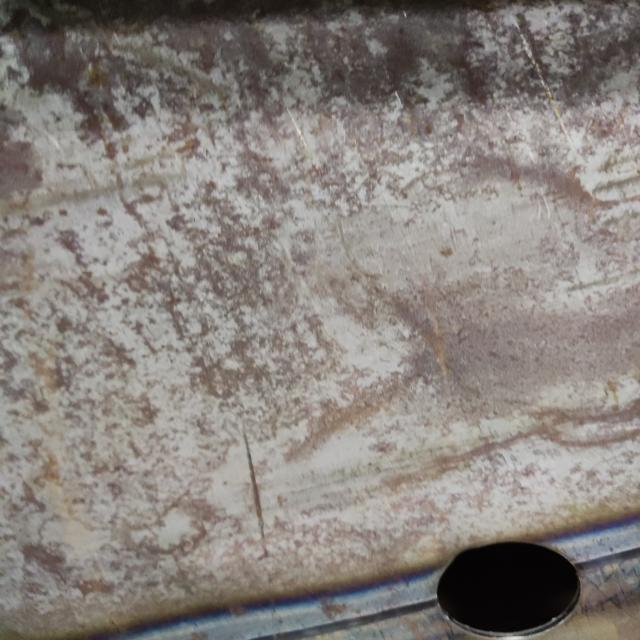seam: (19, 494, 640, 640)
